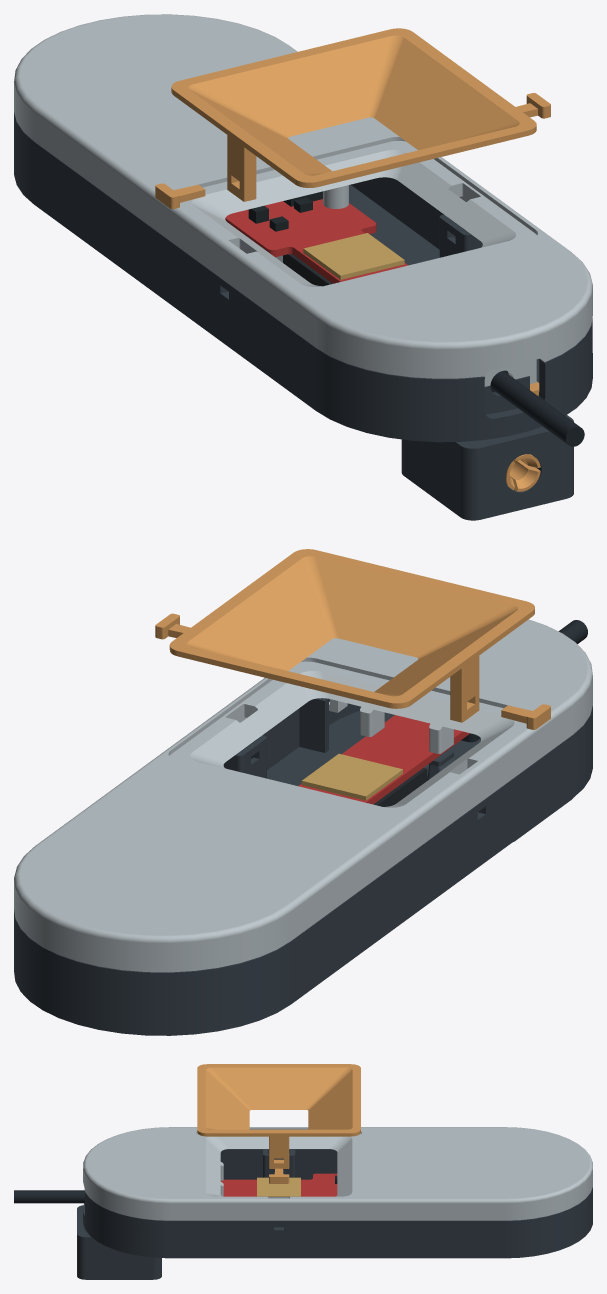
Rendered from shroud_installation.glb.
The picture shows the model from 3 angles, top to bottom: view 1: azimuth 30°, elevation 25°; view 2: azimuth 150°, elevation 25°; view 3: azimuth 270°, elevation 25°; orthographic projection. The views are drawn at different scales.
Visible parts, largest first — view 1: v2_sliding_open_front, v2_rear_flat_back, v2_removable_flared_aperture_shroud, v2_detachable_stand_heel, reference_board_not_printable/pcb_PROC091G, reference_board_not_printable/ref_U2, ref_straight_USB_boot_11x20x6_cable_4p4, v2_socket_4p50_nominal, v2_shroud_locking_key_left, reference_board_not_printable/ref_heatsink_envelope; view 2: v2_sliding_open_front, v2_rear_flat_back, v2_removable_flared_aperture_shroud, reference_board_not_printable/pcb_PROC091G, reference_board_not_printable/ref_U2, v2_shroud_locking_key_left, reference_board_not_printable/ref_heatsink_envelope; view 3: v2_sliding_open_front, v2_rear_flat_back, v2_removable_flared_aperture_shroud, v2_detachable_stand_heel, reference_board_not_printable/pcb_PROC091G, ref_straight_USB_boot_11x20x6_cable_4p4, reference_board_not_printable/ref_U2.
Part boxes in pixels (x1,y1,x2,y2): v2_sliding_open_front: [14, 14, 592, 386]; v2_rear_flat_back: [14, 112, 592, 442]; v2_removable_flared_aperture_shroud: [171, 28, 536, 201]; v2_detachable_stand_heel: [401, 415, 573, 520]; reference_board_not_printable/pcb_PROC091G: [225, 199, 408, 283]; reference_board_not_printable/ref_U2: [303, 233, 404, 279]; ref_straight_USB_boot_11x20x6_cable_4p4: [490, 370, 584, 446]; v2_socket_4p50_nominal: [505, 454, 540, 491]; v2_shroud_locking_key_left: [155, 183, 205, 209]; reference_board_not_printable/ref_heatsink_envelope: [283, 254, 332, 286]; v2_sliding_open_front: [14, 619, 592, 972]; v2_rear_flat_back: [14, 698, 592, 1035]; v2_removable_flared_aperture_shroud: [169, 549, 534, 722]; reference_board_not_printable/pcb_PROC091G: [298, 715, 469, 804]; reference_board_not_printable/ref_U2: [301, 753, 402, 800]; v2_shroud_locking_key_left: [501, 704, 550, 729]; reference_board_not_printable/ref_heatsink_envelope: [373, 768, 427, 806]; v2_sliding_open_front: [83, 1127, 592, 1220]; v2_rear_flat_back: [83, 1149, 592, 1258]; v2_removable_flared_aperture_shroud: [197, 1064, 360, 1168]; v2_detachable_stand_heel: [77, 1205, 161, 1279]; reference_board_not_printable/pcb_PROC091G: [220, 1173, 337, 1196]; ref_straight_USB_boot_11x20x6_cable_4p4: [14, 1190, 84, 1203]; reference_board_not_printable/ref_U2: [257, 1177, 300, 1196].
Bounding box in the file's own units: 0.0888 × 0.0621 × 0.1974.
